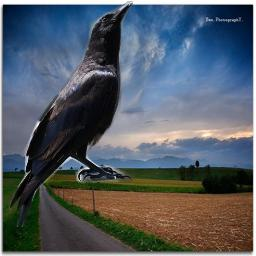Crow: (8, 1, 133, 227)
